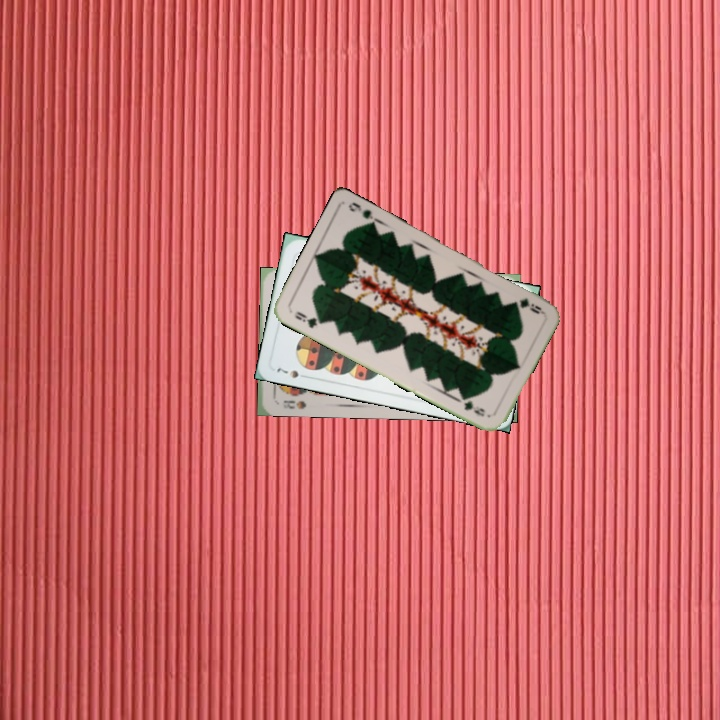G9: (291, 307, 327, 331), (515, 294, 546, 316)
S7: (272, 364, 301, 381)
S8: (280, 396, 309, 411)
